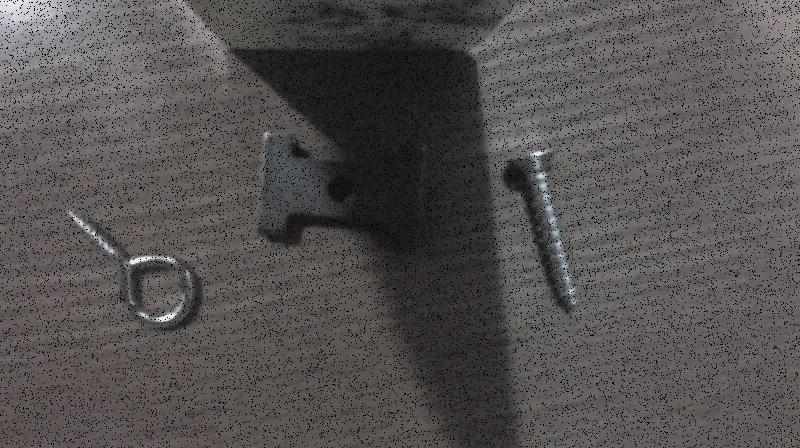O001: (60, 201, 203, 329)
O002: (253, 128, 426, 254)
S001: (497, 137, 583, 320)
